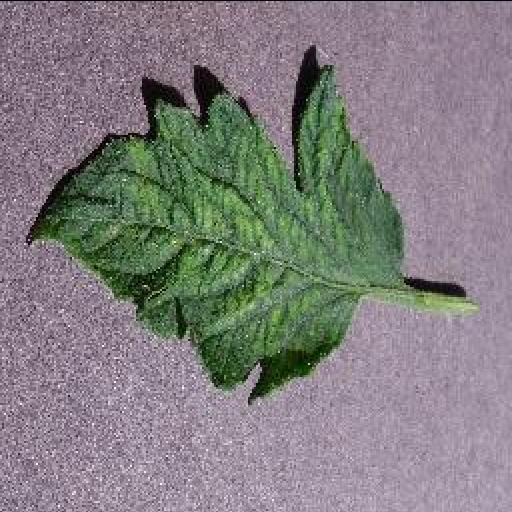Mosaic Virus: (27, 62, 405, 398)
